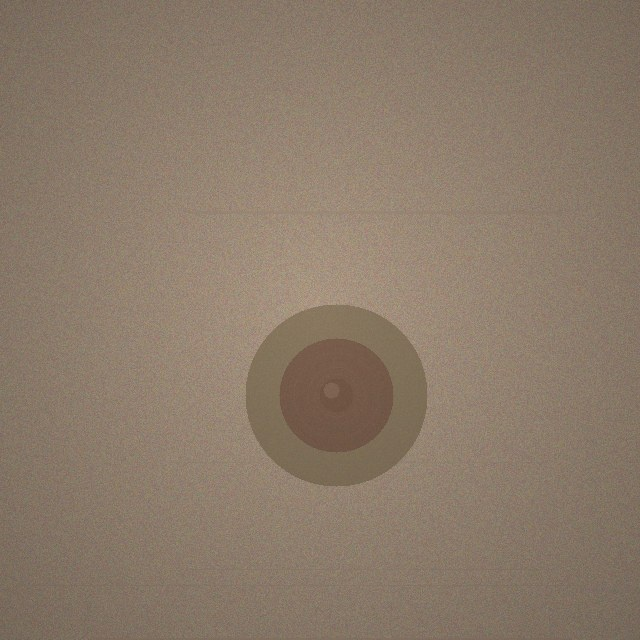good: (245, 304, 427, 486)
